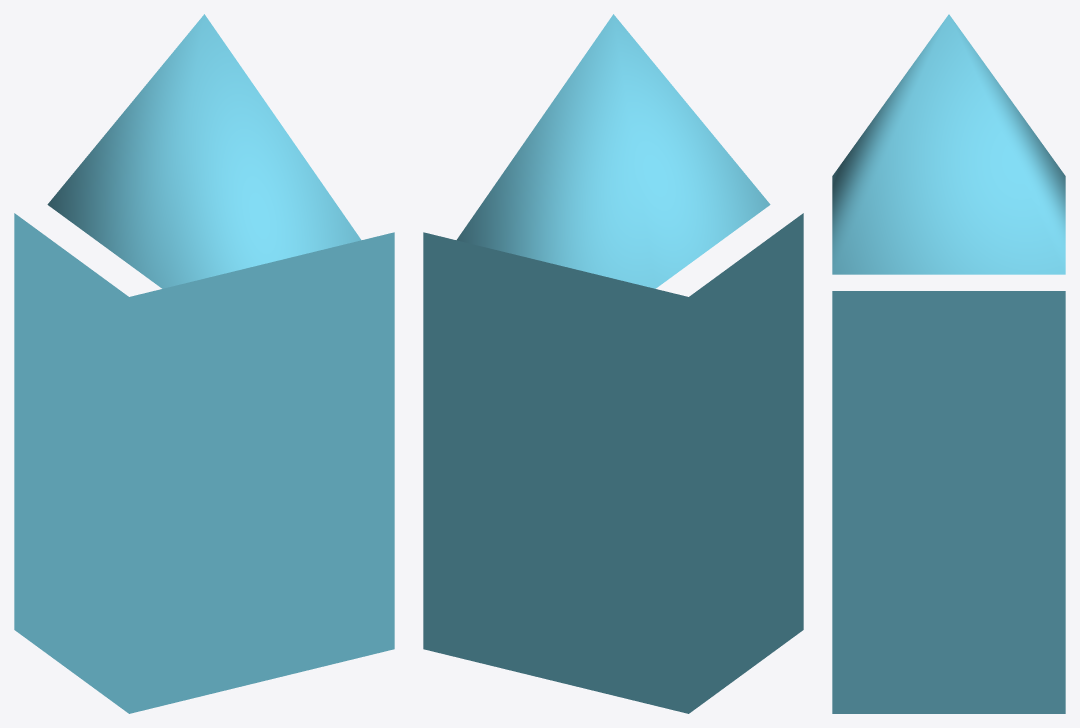
Rendered from avatar.gltf.
The picture shows the model from 3 angles, left to right: view 1: azimuth 30°, elevation 25°; view 2: azimuth 150°, elevation 25°; view 3: azimuth 270°, elevation 25°; orthographic projection.
Visible parts, largest first — view 1: AvatarNode; view 2: AvatarNode; view 3: AvatarNode.
Boxes of the visible parts, x1,y1,x2,y2 form: AvatarNode: (14,14,394,713); AvatarNode: (423,14,803,713); AvatarNode: (832,14,1065,713).
Size of the model in its own units: 0.8 by 1.8 by 0.6.
